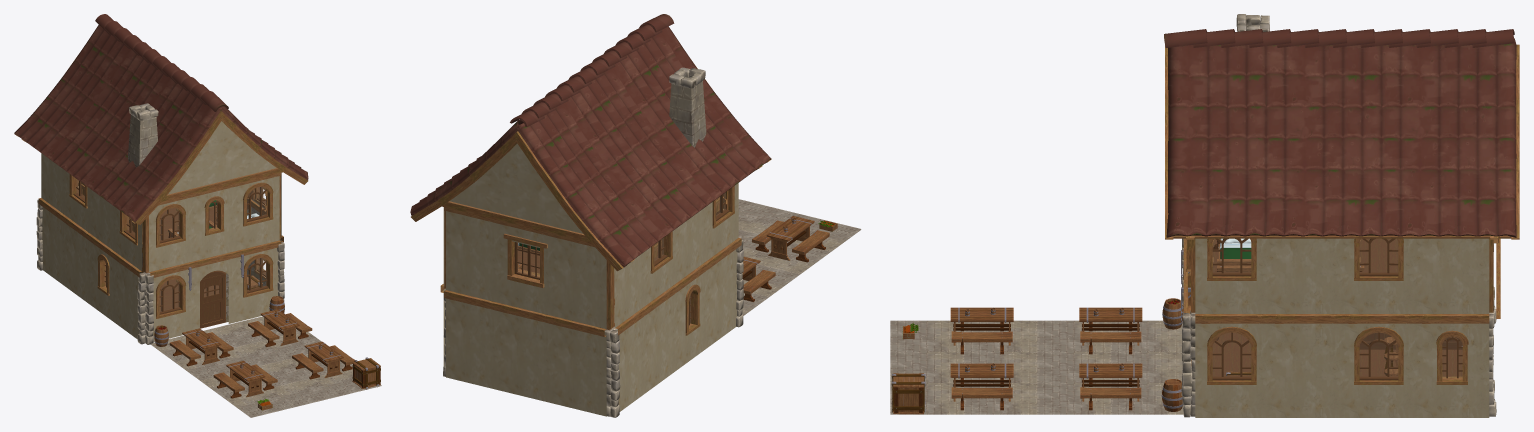
The model's file is Tavern.glb.
3 views of the same model, side by side, from view 1: azimuth 30°, elevation 25°; view 2: azimuth 150°, elevation 25°; view 3: azimuth 270°, elevation 25° (orthographic). The views are drawn at different scales.
Parts seen in each view (by area): view 1: Roof_RoundTiles_6x8.001, Roof_Front_Brick6.001, Wall_Plaster_Window_Thin_Round.001, Wall_Plaster_Window_Wide_Round.005, Wall_UnevenBrick_Straight.005, Wall_Plaster_Window_Wide_Round.004, Wall_UnevenBrick_Straight.006, Wall_UnevenBrick_Window_Wide_Round.002, Wall_UnevenBrick_Door_Round.001, Wall_UnevenBrick_Straight.004, Wall_UnevenBrick_Window_Wide_Round.001, Prop_Chimney.002 (+38 smaller); view 2: Roof_RoundTiles_6x8.001, Roof_Front_Brick6.002, Wall_UnevenBrick_Straight.001, Wall_UnevenBrick_Straight.002, Wall_UnevenBrick_Straight.003, Wall_Plaster_Straight.006, Wall_Plaster_Straight.005, Wall_Plaster_Window_Wide_Flat.001, Wall_UnevenBrick_Straight.005, Wall_UnevenBrick_Straight.004, Wall_UnevenBrick_Straight.006, Prop_Chimney.002 (+19 smaller); view 3: Roof_RoundTiles_6x8.001, Wall_UnevenBrick_Straight.007, Wall_UnevenBrick_Window_Thin_Round.002, Wall_Plaster_Straight.009, Wall_Plaster_Straight.010, Wall_UnevenBrick_Window_Wide_Round.004, Wall_UnevenBrick_Window_Wide_Round.003, Wall_Plaster_Window_Wide_Round.009, Wall_Plaster_Window_Wide_Round.008, Floor_Brick.006, Floor_Brick.045, Floor_Brick.046 (+31 smaller).
Part boxes in pixels (x1,y1,x2,y2): Roof_RoundTiles_6x8.001: [14, 14, 308, 224]; Roof_Front_Brick6.001: [161, 121, 282, 201]; Wall_Plaster_Window_Thin_Round.001: [192, 183, 237, 261]; Wall_Plaster_Window_Wide_Round.005: [236, 173, 281, 250]; Wall_UnevenBrick_Straight.005: [64, 216, 91, 305]; Wall_Plaster_Window_Wide_Round.004: [149, 194, 193, 271]; Wall_UnevenBrick_Straight.006: [38, 198, 66, 286]; Wall_UnevenBrick_Window_Wide_Round.002: [236, 240, 281, 322]; Wall_UnevenBrick_Door_Round.001: [192, 251, 237, 329]; Wall_UnevenBrick_Straight.004: [114, 253, 146, 339]; Wall_UnevenBrick_Window_Wide_Round.001: [146, 261, 193, 342]; Prop_Chimney.002: [127, 103, 158, 167]; Roof_RoundTiles_6x8.001: [410, 14, 771, 271]; Roof_Front_Brick6.002: [442, 143, 590, 242]; Wall_UnevenBrick_Straight.001: [551, 316, 609, 416]; Wall_UnevenBrick_Straight.002: [497, 303, 552, 403]; Wall_UnevenBrick_Straight.003: [444, 290, 499, 390]; Wall_Plaster_Straight.006: [444, 207, 499, 302]; Wall_Plaster_Straight.005: [551, 233, 606, 328]; Wall_Plaster_Window_Wide_Flat.001: [497, 220, 552, 315]; Wall_UnevenBrick_Straight.005: [646, 283, 679, 392]; Wall_UnevenBrick_Straight.004: [707, 238, 741, 347]; Wall_UnevenBrick_Straight.006: [609, 306, 648, 411]; Prop_Chimney.002: [669, 67, 706, 147]; Roof_RoundTiles_6x8.001: [1164, 29, 1519, 239]; Wall_UnevenBrick_Straight.007: [1268, 314, 1342, 417]; Wall_UnevenBrick_Window_Thin_Round.002: [1415, 314, 1489, 417]; Wall_Plaster_Straight.009: [1268, 238, 1342, 313]; Wall_Plaster_Straight.010: [1415, 238, 1489, 313]; Wall_UnevenBrick_Window_Wide_Round.004: [1342, 314, 1415, 417]; Wall_UnevenBrick_Window_Wide_Round.003: [1195, 314, 1268, 417]; Wall_Plaster_Window_Wide_Round.009: [1342, 238, 1415, 313]; Wall_Plaster_Window_Wide_Round.008: [1195, 238, 1268, 313]; Floor_Brick.006: [1037, 383, 1110, 414]; Floor_Brick.045: [890, 320, 963, 351]; Floor_Brick.046: [890, 351, 963, 382].
Bounding box in the file's own units: 8.25 × 10.21 × 17.13.
75 materials, 71 textured.
